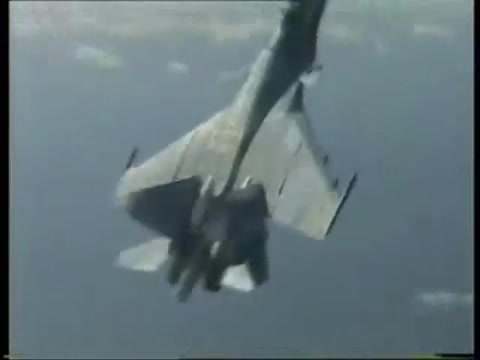aeroplane: (116, 2, 359, 304)
